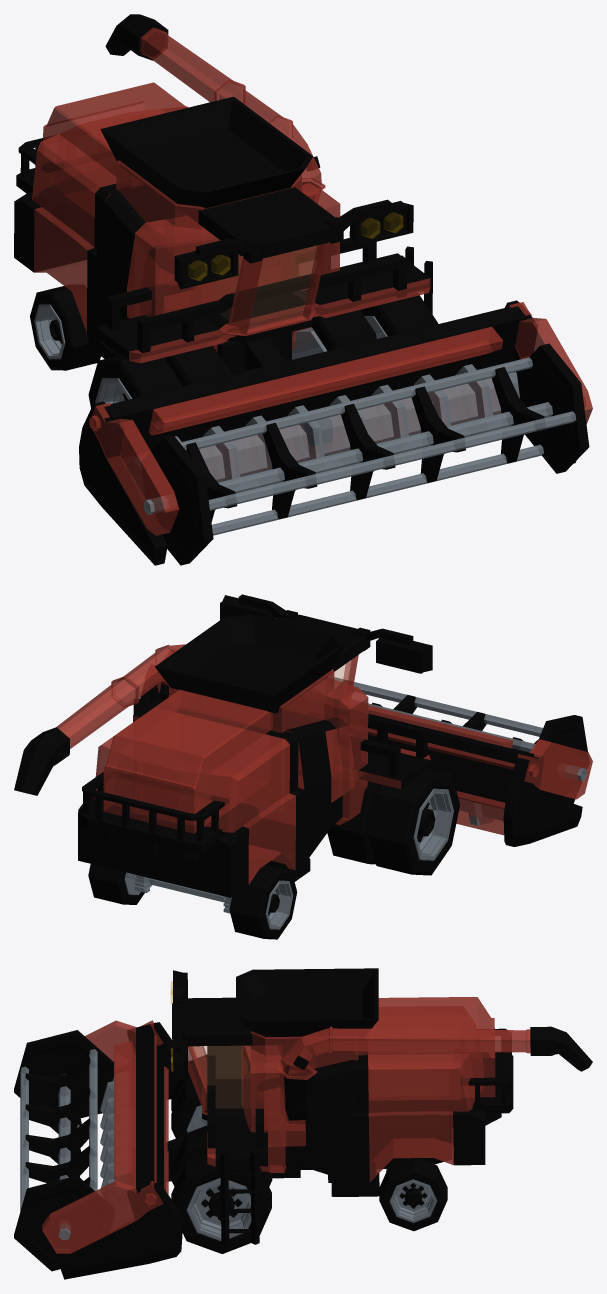
File: combineMedium.fbx
3 renders of one model, top to bottom at view 1: azimuth 30°, elevation 25°; view 2: azimuth 150°, elevation 25°; view 3: azimuth 270°, elevation 25°, orthographic. The views are drawn at different scales.
Parts seen in each view (by area): view 1: Combine, rollerFront, rollerBack, FLWheel, FRWheel, BRWheel, lights; view 2: Combine, FRWheel, rollerFront, BRWheel, BLWheel, rollerBack; view 3: Combine, rollerFront, FLWheel, BLWheel, FRWheel, rollerBack.
Boxes of the visible parts, <box> form: Combine: <box>14,14,592,565</box>; rollerFront: <box>143,343,589,565</box>; rollerBack: <box>175,364,519,482</box>; FLWheel: <box>292,295,438,359</box>; FRWheel: <box>88,345,231,408</box>; BRWheel: <box>30,286,100,370</box>; lights: <box>188,212,402,280</box>; Combine: <box>14,594,592,913</box>; FRWheel: <box>327,768,459,875</box>; rollerFront: <box>334,677,587,803</box>; BRWheel: <box>229,864,297,939</box>; BLWheel: <box>88,864,144,904</box>; rollerBack: <box>459,799,503,825</box>; Combine: <box>42,968,592,1279</box>; rollerFront: <box>14,1030,113,1271</box>; FLWheel: <box>171,1125,272,1253</box>; BLWheel: <box>379,1158,447,1231</box>; FRWheel: <box>171,1054,207,1138</box>; rollerBack: <box>100,1077,114,1188</box>.
Size of the model in its own units: 507 by 286 by 735.
